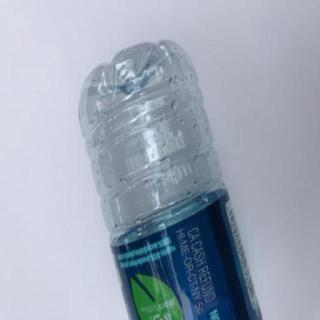Plastic-bottle: (79, 38, 270, 320)
